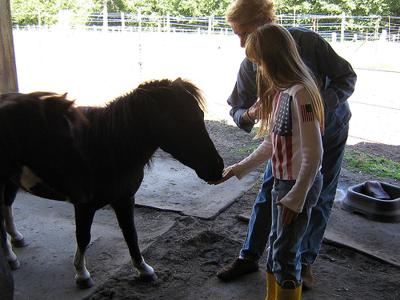person: (222, 26, 326, 300)
